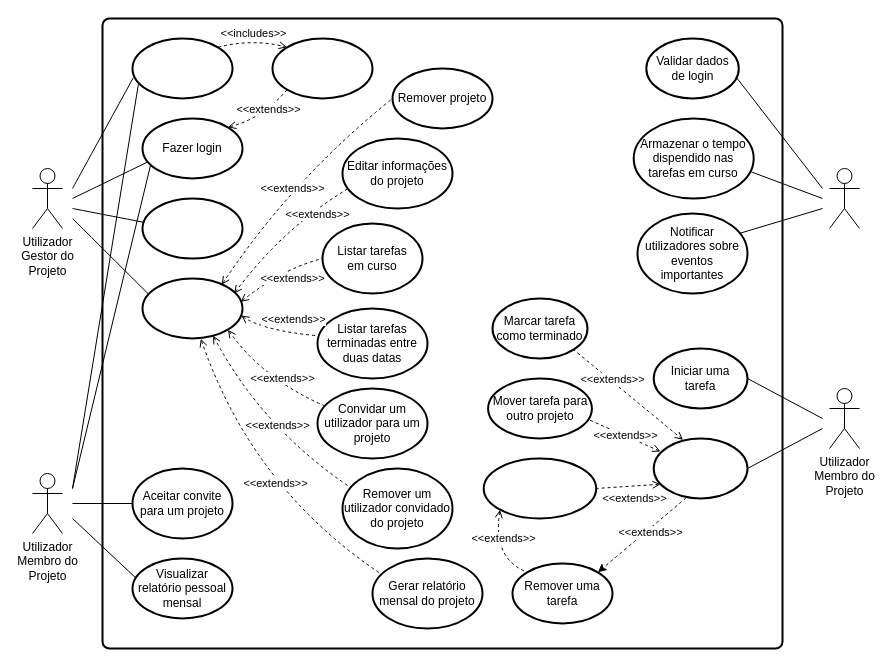
The diagram is 892 pixels wide and 666 high, and some of its shapes have lost their labels. The shapes that lost their labels are listed below. From the top down, each one's centre as x and y in pixels, then its label:
At point 182,68: "Criar conta".
At point 322,68: "Editar dados da conta".
At point 844,198: "Sistema".
At point 192,228: "Criar projeto".
At point 192,308: "Selecionar Projeto".
At point 539,488: "Desassociar tarefa".
At point 700,468: "Selecionar uma tarefa".
